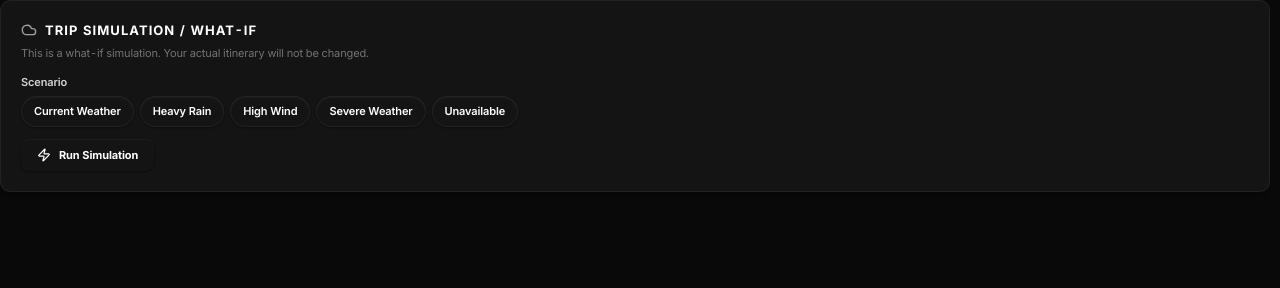
Scenario: SimulationSection › renders no-impact simulation
Click the button "Run Simulation": (88, 155) top-left (21, 139), bottom-right (154, 171)
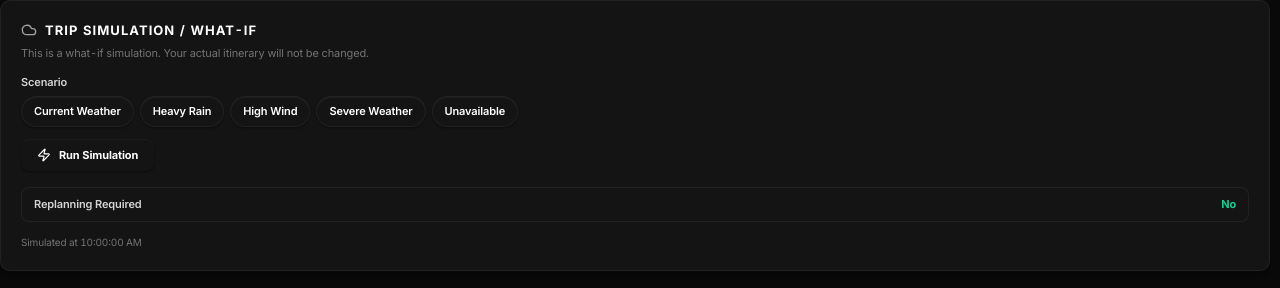
Check: the text "Replanning Required" is shown, box top-left (34, 196), bottom-right (142, 213)
Check: the text "No" is shown, box top-left (1221, 196), bottom-right (1236, 213)
